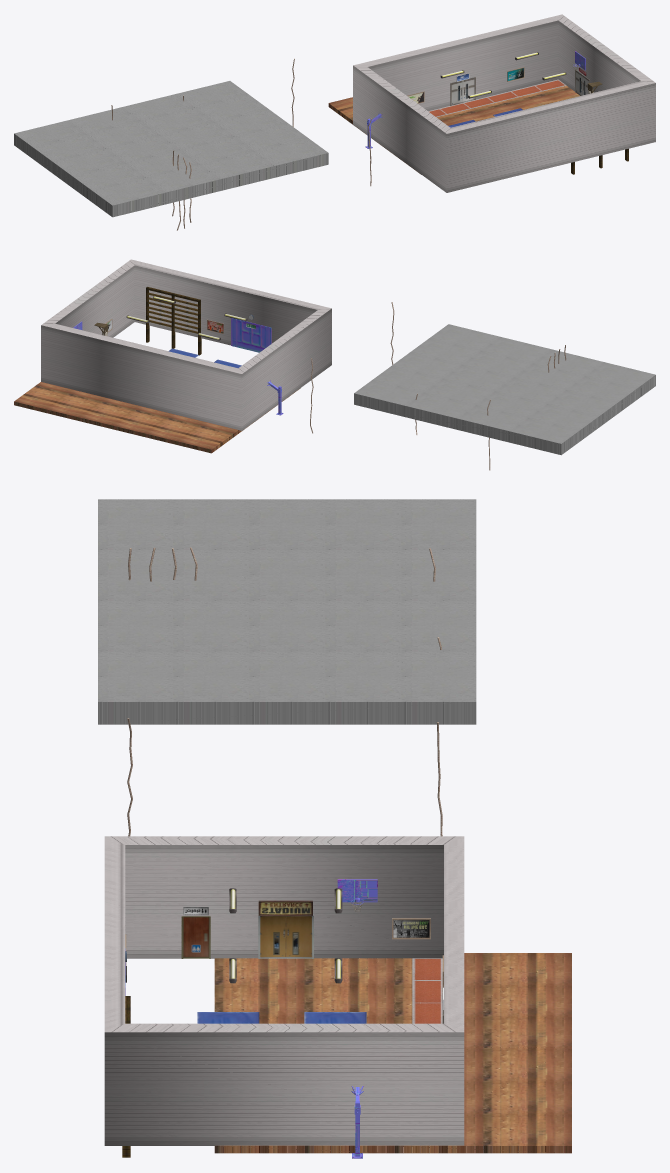
The model's file is Gym.glb.
The picture shows the model from 3 angles, top to bottom: view 1: azimuth 30°, elevation 25°; view 2: azimuth 150°, elevation 25°; view 3: azimuth 270°, elevation 25°; orthographic projection. The views are drawn at different scales.
Parts seen in each view (by area): view 1: Gym; view 2: Gym; view 3: Gym.
Part boxes in pixels (x1,y1,x2,y2): Gym: [14, 14, 655, 230]; Gym: [14, 259, 655, 470]; Gym: [98, 499, 571, 1158].
Size of the model in its own units: 492 by 87.91 by 188.
26 materials, 25 textured.
